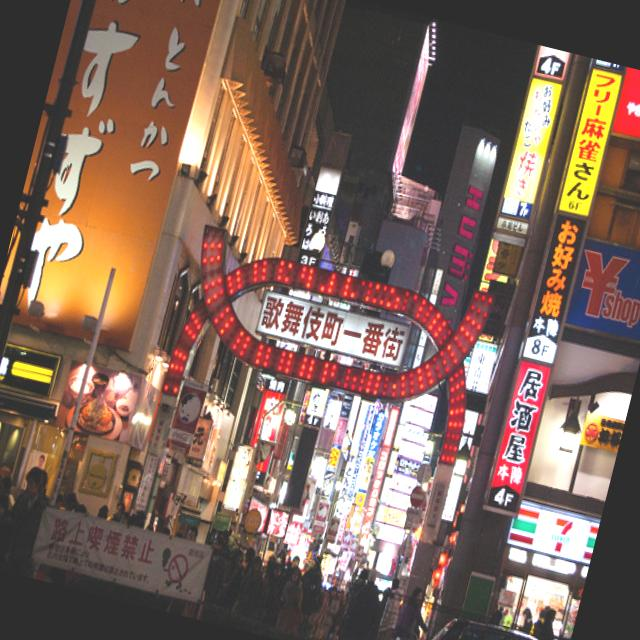Vehicle: (383, 601, 569, 640)
